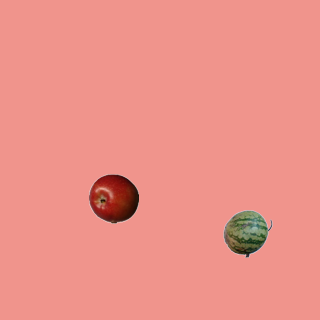Apple Braeburn: (88, 173, 138, 223)
Watermelon: (222, 208, 272, 258)
